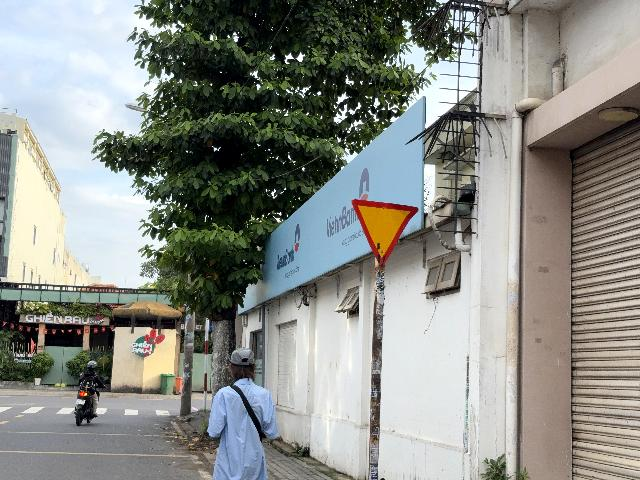giao-nhau-voi-duong-uu-tien: (350, 199, 419, 266)
